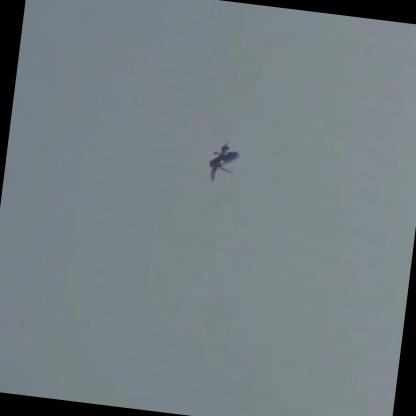plane: (205, 139, 240, 186)
